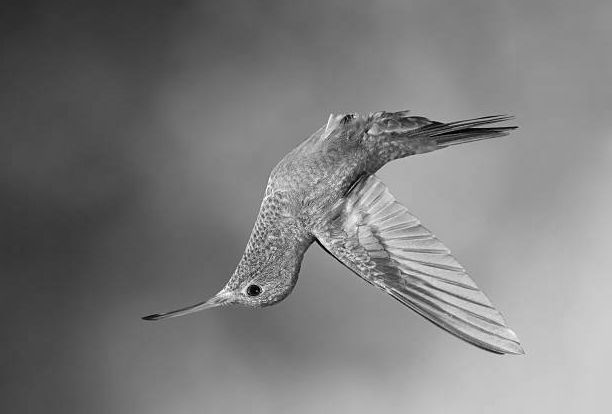Bird: (133, 102, 528, 366)
